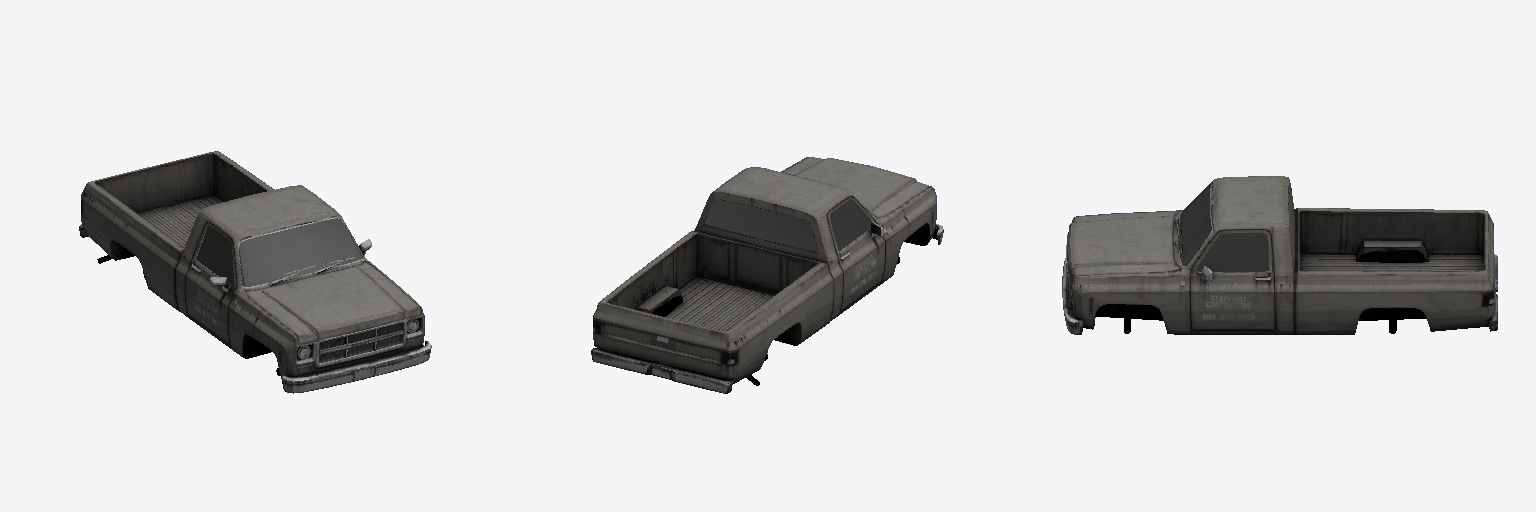
3 renders of one model, left to right at view 1: azimuth 30°, elevation 25°; view 2: azimuth 150°, elevation 25°; view 3: azimuth 270°, elevation 25°, orthographic.
Visible parts, largest first — view 1: Object001_Untitled, Object002_Untitled.001; view 2: Object001_Untitled, Object002_Untitled.001; view 3: Object001_Untitled, Object002_Untitled.001.
Part boxes in pixels (bbox=[...]): Object001_Untitled: bbox=[79, 151, 431, 393]; Object002_Untitled.001: bbox=[197, 218, 362, 286]; Object001_Untitled: bbox=[591, 157, 943, 393]; Object002_Untitled.001: bbox=[704, 200, 871, 251]; Object001_Untitled: bbox=[1062, 176, 1497, 334]; Object002_Untitled.001: bbox=[1178, 182, 1293, 271].
Bounding box in the file's own units: 3.9 × 2.7 × 9.18.
2 materials, 2 textured.